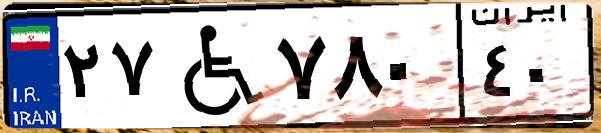0: (385, 28, 445, 110), (525, 38, 570, 115)
2: (57, 26, 110, 100)
4: (475, 38, 525, 113)
7: (270, 28, 330, 110), (110, 28, 158, 98)
8: (330, 28, 385, 110)
ژ (معلولین و جانبازان): (158, 12, 270, 120)
